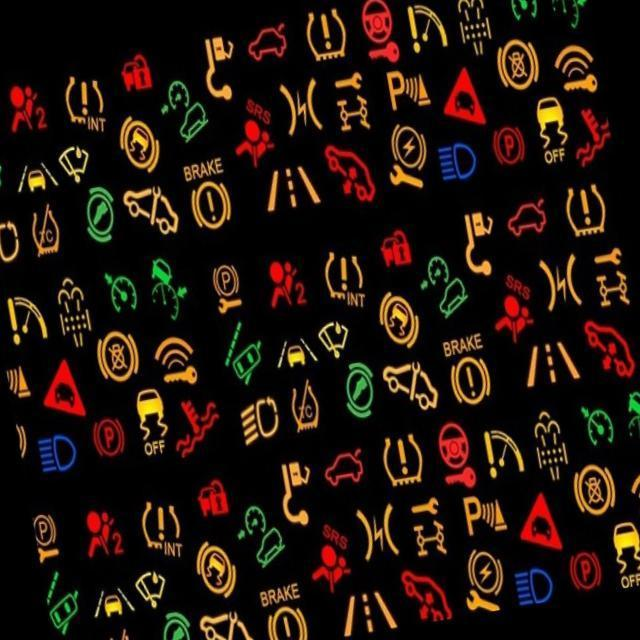Engine cooling system: (166, 392, 223, 457)
